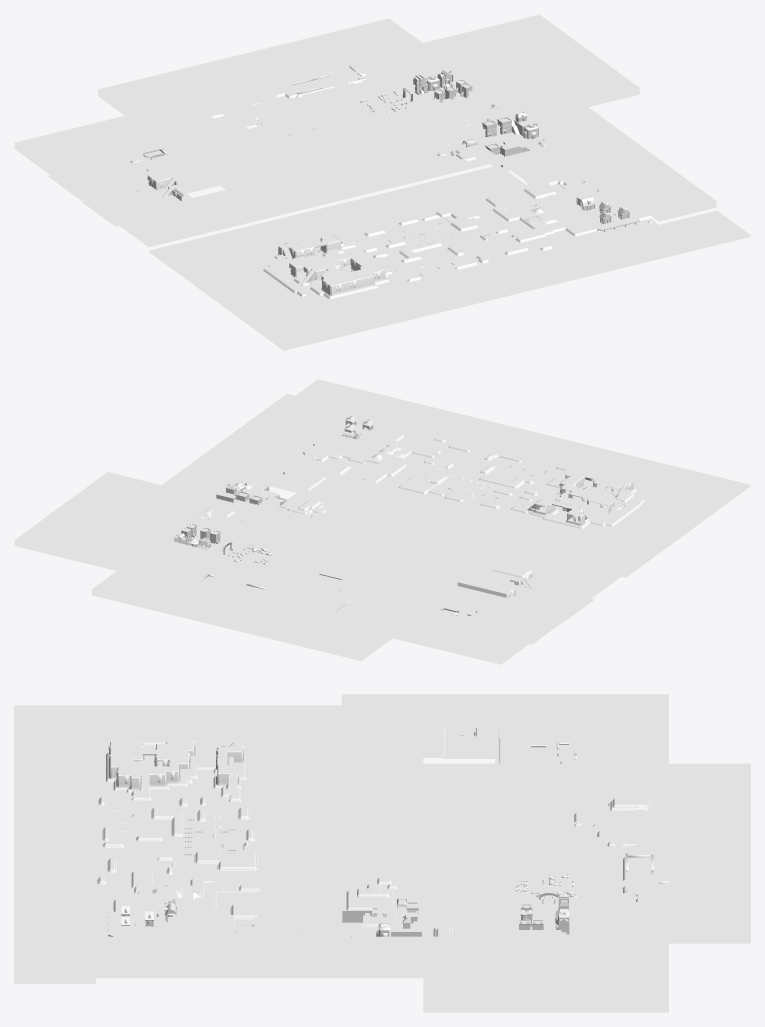
The model's file is matrix1_collision.glb.
3 renders of one model, top to bottom at view 1: azimuth 30°, elevation 25°; view 2: azimuth 150°, elevation 25°; view 3: azimuth 270°, elevation 25°, orthographic. The views are drawn at different scales.
Parts seen in each view (by area): view 1: polygon2.048, polygon2.030, polygon2.080, polygon2.081, polygon2.049, polygon2.050, polygon2.035, polygon2.047, polygon2.044, polygon1.033, polygon1.035, polygon1.039 (+92 smaller); view 2: polygon2.047, polygon2.044, polygon2.041, polygon2.037, polygon2.042, polygon2.040, polygon2.046, polygon2.043, polygon2.038, polygon2.048, polygon1.037, polygon1.032 (+96 smaller); view 3: polygon2.035, polygon2.036, polygon2.037, polygon2.031, polygon2.032, polygon2.033, polygon2.030, polygon2.041, polygon1.044, polygon1.032, polygon1.040, polygon1.042 (+112 smaller).
Boxes of the visible parts, box(x1,y1,x2,y2) form: polygon2.048: box(116, 202, 206, 245); polygon2.030: box(626, 177, 716, 220); polygon2.080: box(350, 145, 439, 188); polygon2.081: box(291, 160, 381, 203); polygon2.049: box(174, 188, 264, 231); polygon2.050: box(233, 174, 322, 217); polygon2.035: box(549, 64, 639, 106); polygon2.047: box(15, 128, 104, 171); polygon2.044: box(98, 75, 187, 115); polygon1.033: box(659, 210, 750, 249); polygon1.035: box(367, 282, 458, 320); polygon1.039: box(183, 261, 274, 299); polygon2.047: box(448, 623, 531, 663); polygon2.044: box(308, 620, 391, 659); polygon2.041: box(92, 567, 175, 607); polygon2.037: box(15, 517, 98, 557); polygon2.042: box(200, 593, 283, 633); polygon2.040: box(146, 580, 229, 620); polygon2.046: box(393, 610, 477, 650); polygon2.043: box(254, 606, 337, 646); polygon2.038: box(69, 531, 152, 570); polygon2.048: box(541, 554, 624, 594); polygon1.037: box(666, 471, 750, 507); polygon1.032: box(449, 419, 533, 454); polygon2.035: box(423, 971, 505, 1011); polygon2.036: box(505, 971, 587, 1011); polygon2.037: box(587, 971, 668, 1011); polygon2.031: box(177, 936, 259, 976); polygon2.032: box(259, 936, 341, 976); polygon2.033: box(341, 936, 423, 976); polygon2.030: box(96, 936, 177, 976); polygon2.041: box(669, 902, 750, 941); polygon1.044: box(259, 843, 341, 878); polygon1.032: box(14, 843, 95, 878); polygon1.040: box(259, 705, 341, 739); polygon1.042: box(259, 774, 341, 808).
Bounding box in the file's own units: 72 × 3.75 × 72.
Materials: 177 (177 with a texture image).
